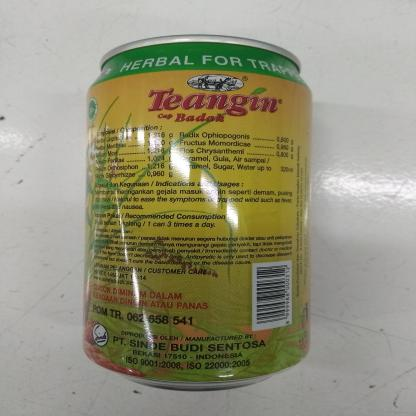bottle: (76, 29, 316, 395)
